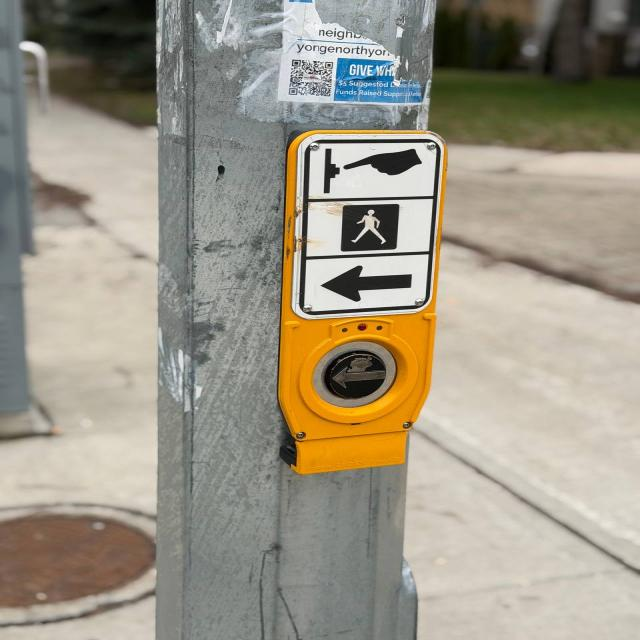Electrical Pole: (141, 0, 458, 640)
